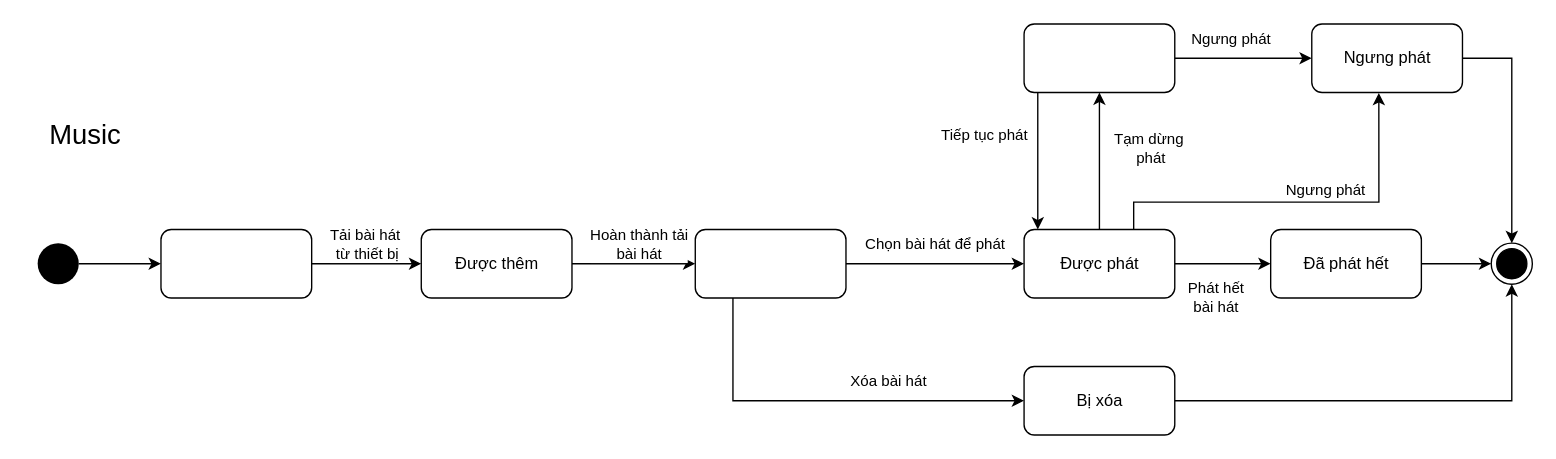
Some shapes in this 1556 by 459 pixel diagram are drawn without their labels. The shapes that lost their labels are listed below. From the top down, each one's centre as x and y in pixels, then its label:
At point (1099, 57): "Được tạm dừng".
At point (236, 263): "Chưa được tải".
At point (770, 263): "Đã tồn tại".
